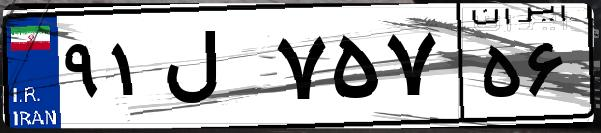1: (110, 28, 158, 98)
5: (330, 28, 385, 110), (475, 38, 525, 113)
6: (525, 38, 570, 115)
7: (270, 28, 330, 110), (385, 28, 445, 110)
9: (57, 26, 110, 100)
ل: (158, 20, 270, 120)
